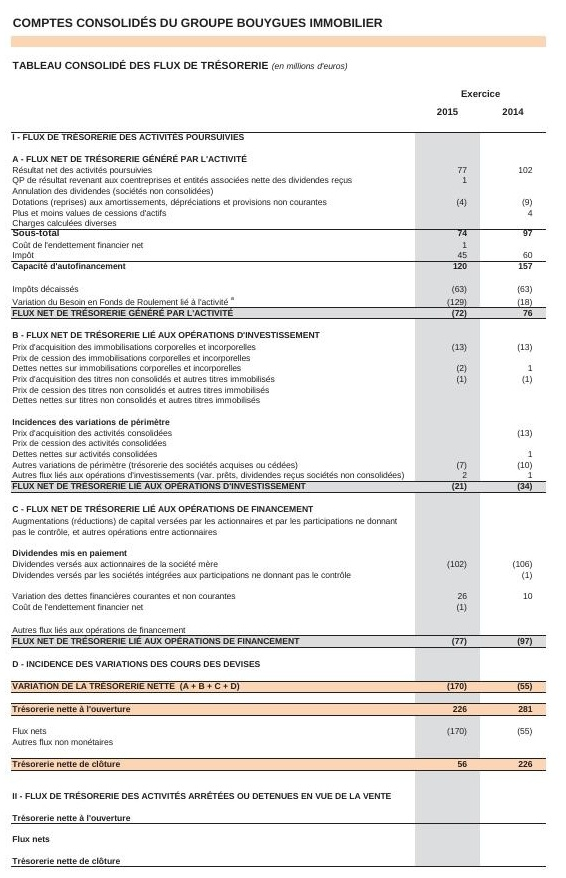table: (0, 0, 566, 878)
